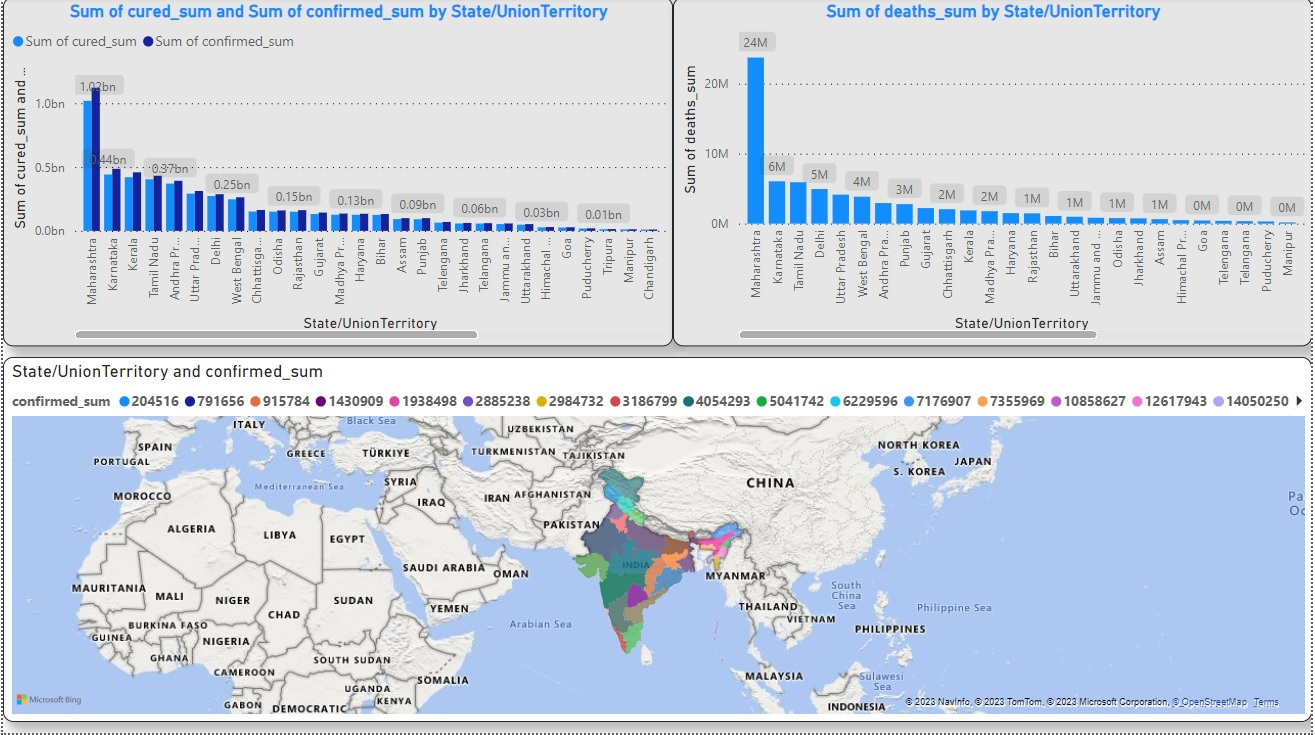

This screenshot's page, from the dashboard's own definition file:
{"tool":"powerbi","page":{"name":"Page 2","canvas":[1280,720],"ordinal":1},"visuals":[{"type":"clusteredColumnChart","fields":{"Y":["Sum(orderby_covid_19_india.cured_sum)","Sum(orderby_covid_19_india.confirmed_sum)"],"Category":["orderby_covid_19_india.State/UnionTerritory"]},"box":[0,0,655,341.7],"z":0},{"type":"clusteredColumnChart","fields":{"Y":["Sum(orderby_covid_19_india.deaths_sum)"],"Category":["orderby_covid_19_india.State/UnionTerritory"]},"box":[655,0,625,341.7],"z":1000},{"type":"filledMap","fields":{"Category":["orderby_covid_19_india.State/UnionTerritory"],"Series":["orderby_covid_19_india.confirmed_sum"]},"box":[0,351.7,1280,356.7],"z":2000}]}

Visuals, with their boxes in screenshot pixels (x1, y1, x2, y2), scaled from the page's 1280x720 canvas onto the 1315x735 screenshot:
clusteredColumnChart - Sum(orderby_covid_19_india.cured_sum) x Sum(orderby_covid_19_india.confirmed_sum): BBox(0, 0, 673, 349)
clusteredColumnChart - Sum(orderby_covid_19_india.deaths_sum) x orderby_covid_19_india.State/UnionTerritory: BBox(673, 0, 1314, 349)
filledMap - orderby_covid_19_india.State/UnionTerritory x orderby_covid_19_india.confirmed_sum: BBox(0, 359, 1314, 723)
